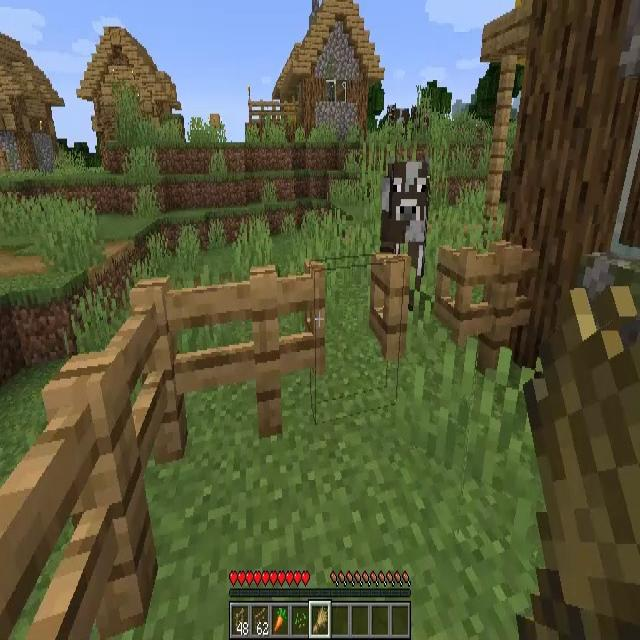cow: (379, 163, 427, 312)
